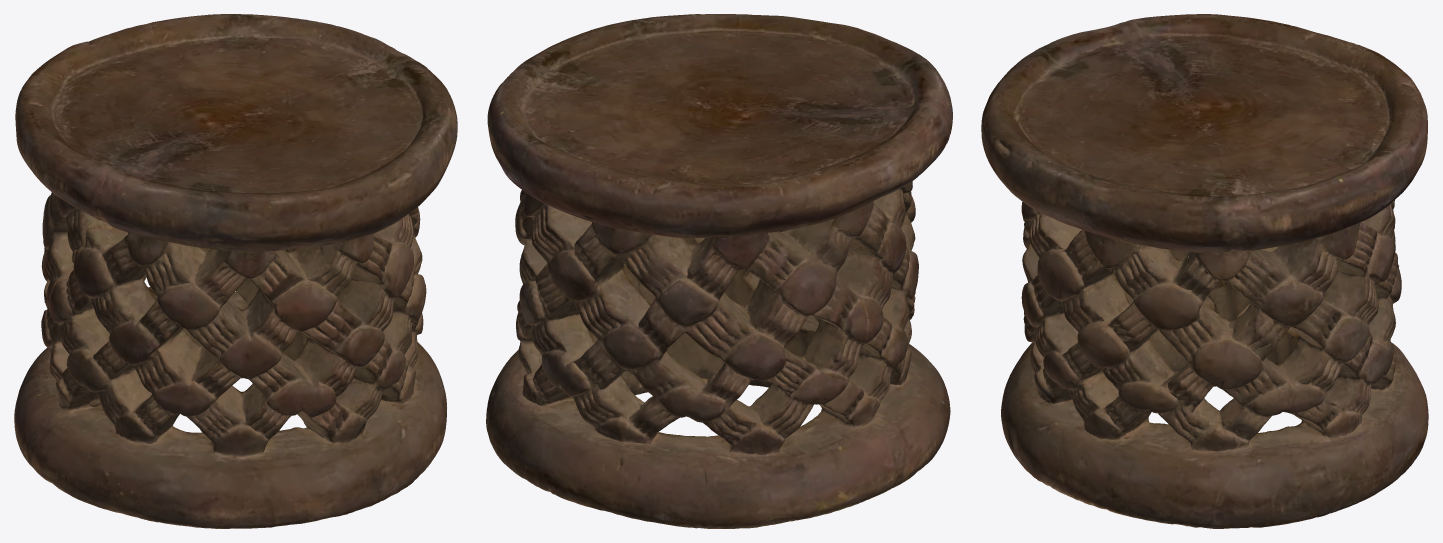
The model's file is preview.glb.
3 views of the same model, side by side, from view 1: azimuth 30°, elevation 25°; view 2: azimuth 150°, elevation 25°; view 3: azimuth 270°, elevation 25° (orthographic). The views are drawn at different scales.
Visible parts, largest first — view 1: Object_2; view 2: Object_2; view 3: Object_2.
Boxes of the visible parts, bbox=[...] form: Object_2: bbox=[14, 14, 457, 528]; Object_2: bbox=[486, 14, 952, 528]; Object_2: bbox=[981, 14, 1428, 528].
Bounding box in the file's own units: 404 × 341 × 406.
1 material, 1 textured.
